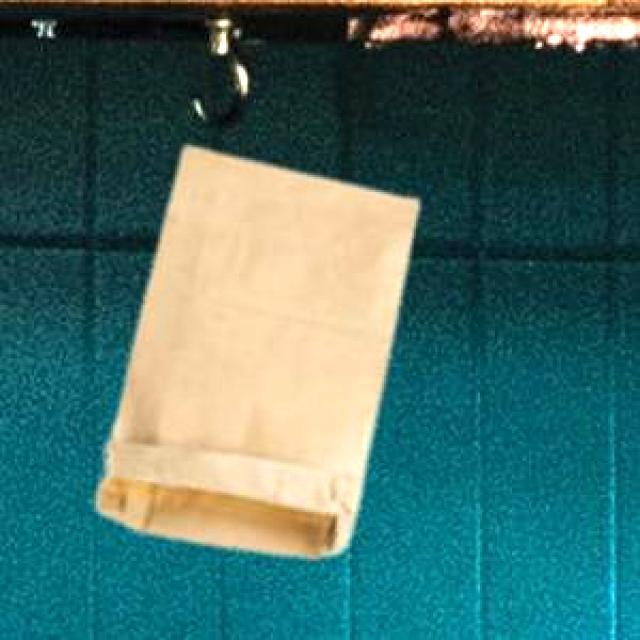Paper_Bag: (95, 144, 415, 554)
